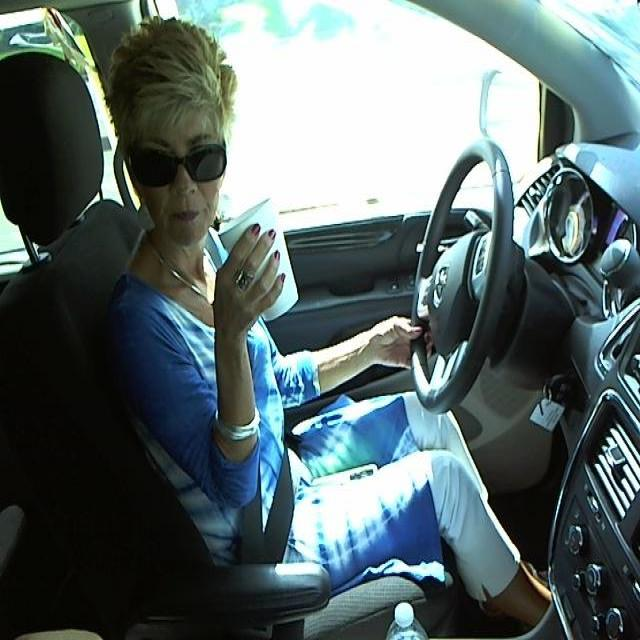drinking: (214, 192, 305, 322)
